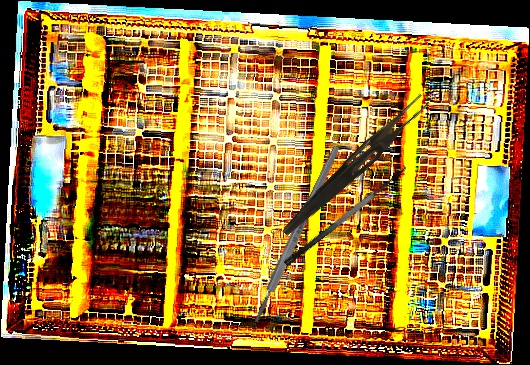Dressing Forceps: (279, 88, 431, 244)
Scalpel Handle: (250, 144, 343, 325)
Spatula Surgical: (275, 157, 411, 268)
